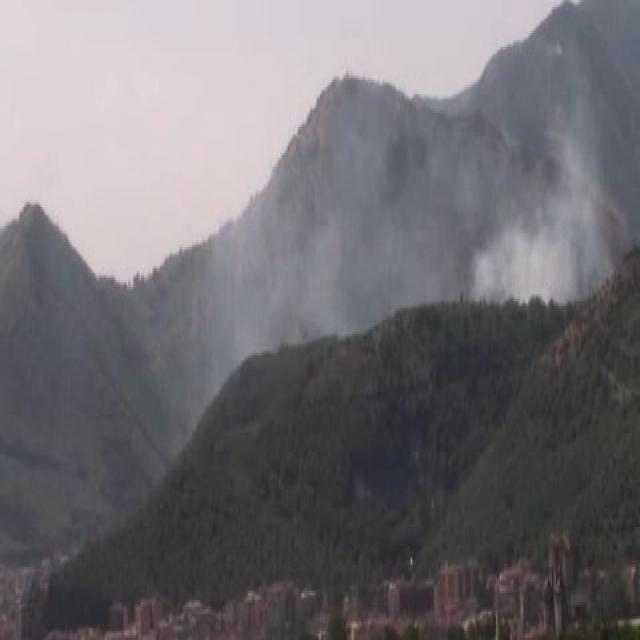smoke: (292, 128, 607, 312)
